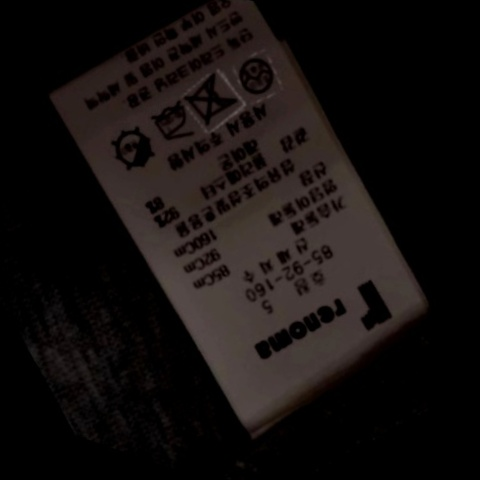DN_wash: (175, 65, 252, 137)
dry_clean_petrol_only: (227, 44, 290, 106)
iron_low: (138, 91, 206, 156)
line_dry_in_shade: (99, 117, 173, 185)
